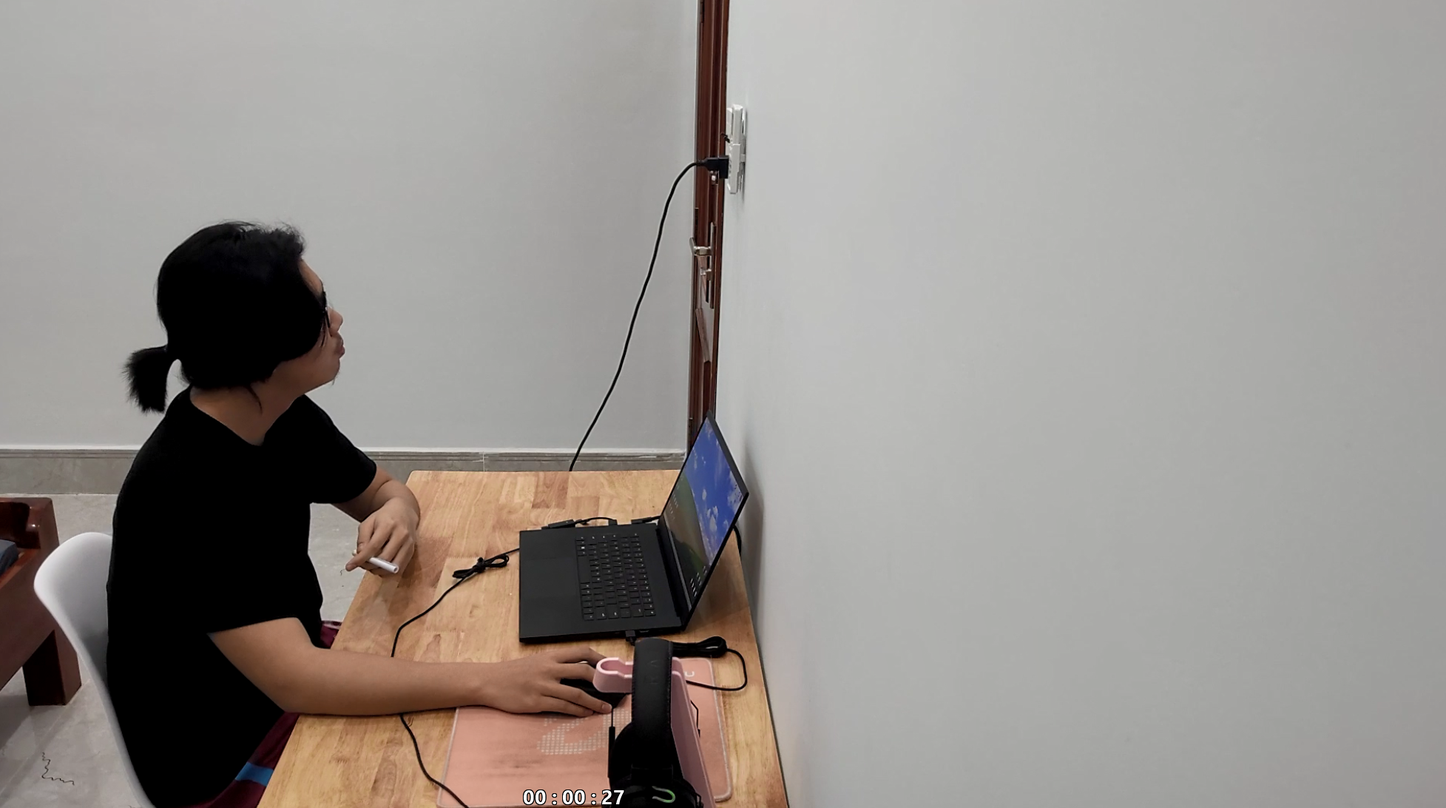cigarette: (350, 542, 401, 577)
person: (87, 192, 424, 808)
